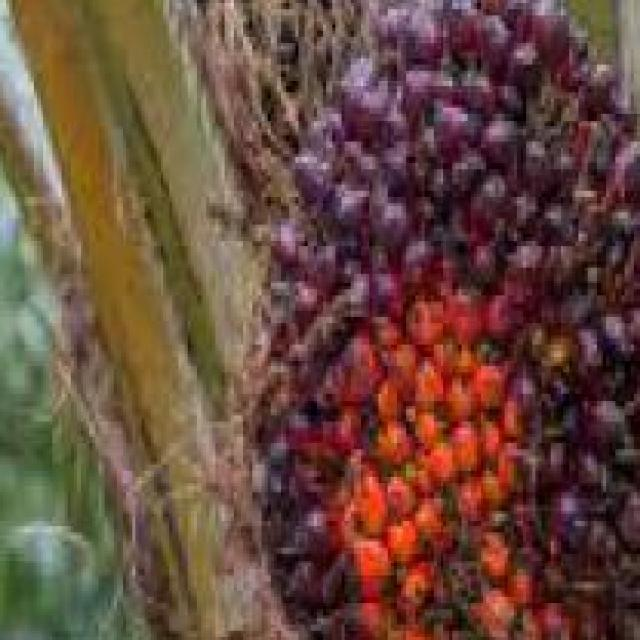underripe: (243, 0, 640, 640)
